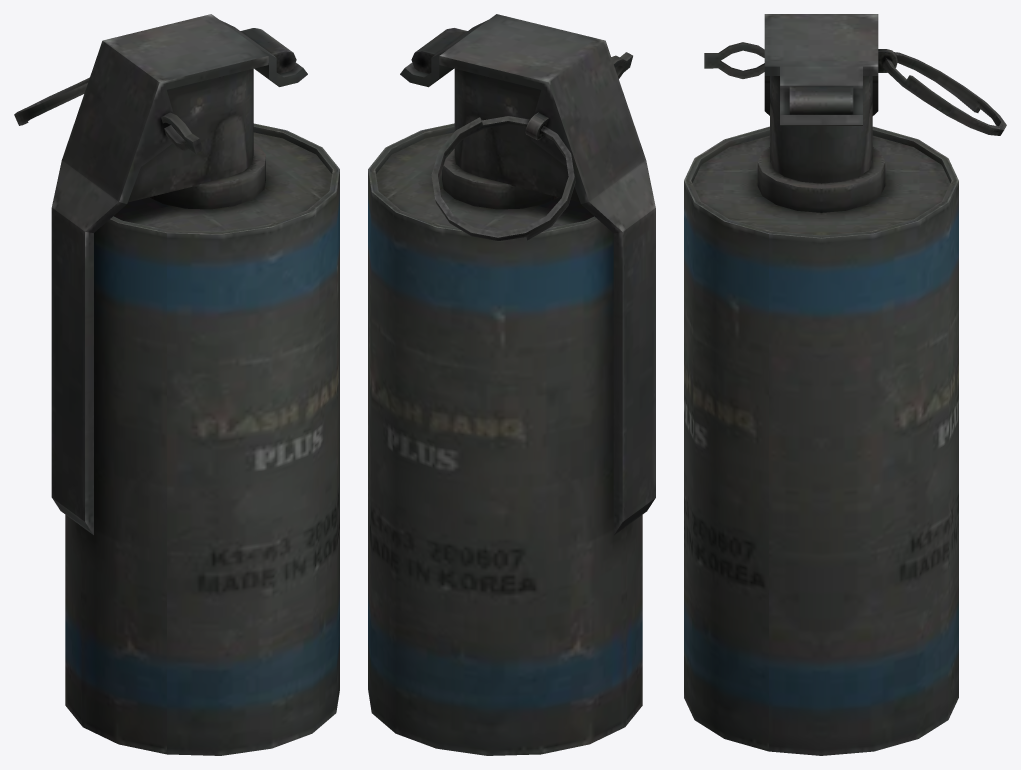
Rendered from FlashBangPlus.obj.
3 renders of one model, left to right at view 1: azimuth 30°, elevation 25°; view 2: azimuth 150°, elevation 25°; view 3: azimuth 270°, elevation 25°, orthographic.
Parts seen in each view (by area): view 1: FlashBang_Plus; view 2: FlashBang_Plus; view 3: FlashBang_Plus.
Boxes of the visible parts, <box> form: FlashBang_Plus: <box>14,14,339,755</box>; FlashBang_Plus: <box>368,14,655,755</box>; FlashBang_Plus: <box>684,14,1006,755</box>.
Bounding box in the file's own units: 0.0525 × 0.1293 × 0.0583.
Materials: 1 (1 with a texture image).
